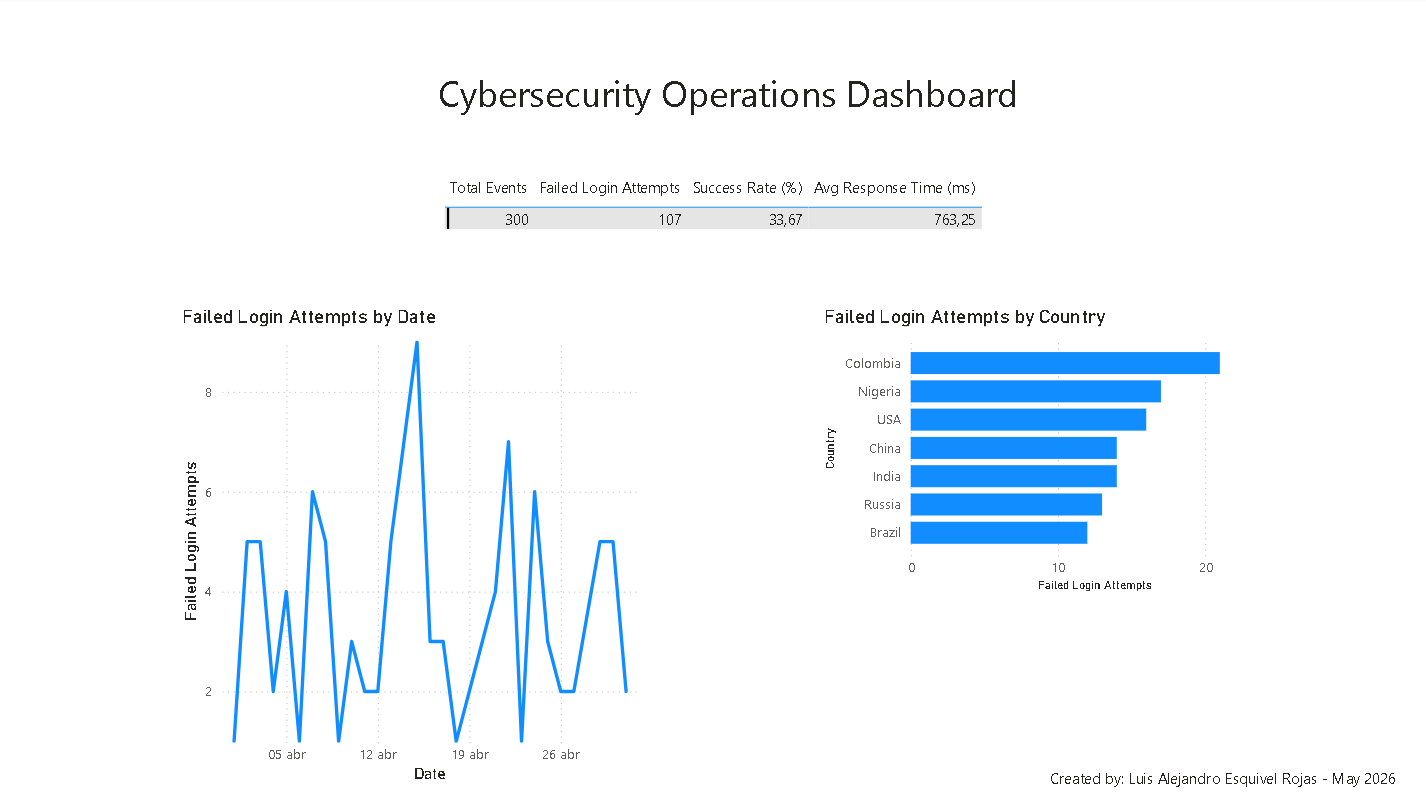

Layout of this report page (visuals, bound fields, positions):
{"tool":"powerbi","page":{"name":"Page 1","canvas":[1280,720],"ordinal":0},"visuals":[{"type":"lineChart","fields":{"Y":["security_logs.Failed Login Attempts"],"Category":["security_logs.Date"]},"box":[179,126.4,424.1,432.8],"z":0},{"type":"clusteredBarChart","fields":{"Y":["security_logs.Failed Login Attempts"],"Category":["security_logs.Country"]},"box":[720.7,126.4,424.1,261.6],"z":1},{"type":"tableEx","fields":{"Values":["security_logs.Total Events","security_logs.Failed Login Attempts","security_logs.Success Rate (%)","security_logs.Avg Response Time (ms)"]},"box":[358.9,12.6,562.2,75.9],"z":2}]}

Visuals, with their boxes in screenshot pixels (x1, y1, x2, y2), scaled from the page's 1280x720 canvas onto the 1426x800 screenshot:
lineChart - security_logs.Failed Login Attempts x security_logs.Date: bbox(199, 140, 672, 621)
clusteredBarChart - security_logs.Failed Login Attempts x security_logs.Country: bbox(803, 140, 1275, 431)
tableEx - security_logs.Total Events x security_logs.Failed Login Attempts: bbox(400, 14, 1026, 98)
